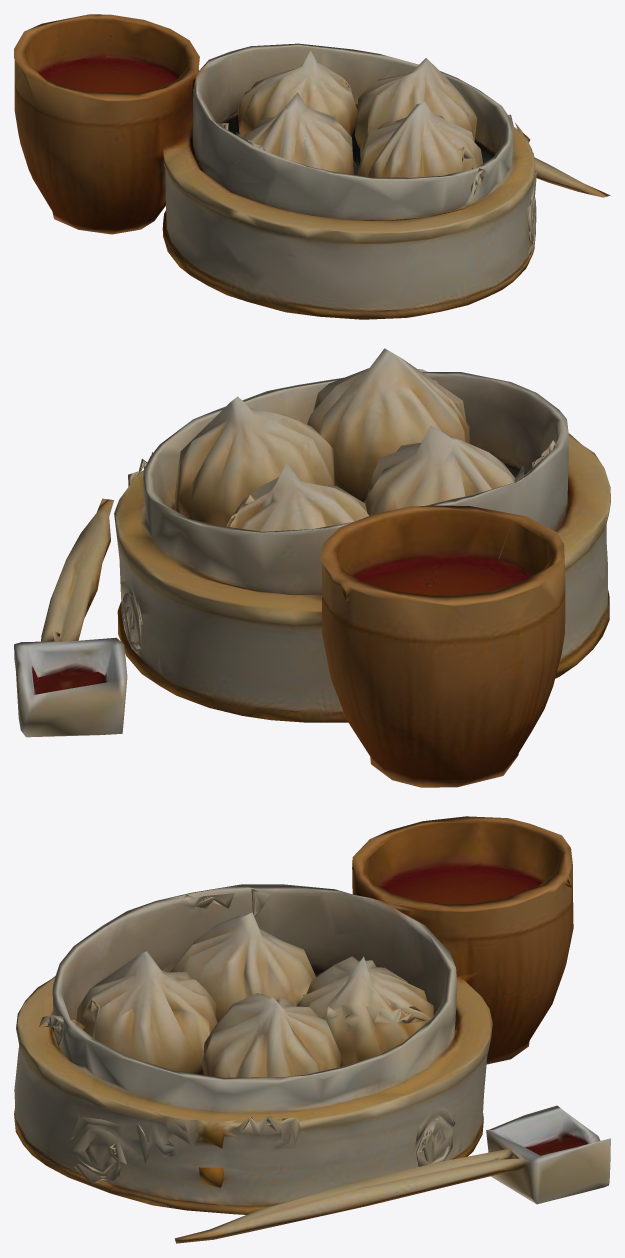
File: canasta_dimsum.glb
3 renders of one model, top to bottom at view 1: azimuth 30°, elevation 25°; view 2: azimuth 150°, elevation 25°; view 3: azimuth 270°, elevation 25°, orthographic. The views are drawn at different scales.
Visible parts, largest first — view 1: tripo_node_edbe47ee-c218-4b3b-99ac-19650f57eea0_0; view 2: tripo_node_edbe47ee-c218-4b3b-99ac-19650f57eea0_0; view 3: tripo_node_edbe47ee-c218-4b3b-99ac-19650f57eea0_0.
Part boxes in pixels (x1,y1,x2,y2): tripo_node_edbe47ee-c218-4b3b-99ac-19650f57eea0_0: (14, 14, 610, 319); tripo_node_edbe47ee-c218-4b3b-99ac-19650f57eea0_0: (14, 348, 610, 787); tripo_node_edbe47ee-c218-4b3b-99ac-19650f57eea0_0: (14, 816, 610, 1243).
Bounding box in the file's own units: 1 × 0.3447 × 0.9649.
Materials: 1 (1 with a texture image).
